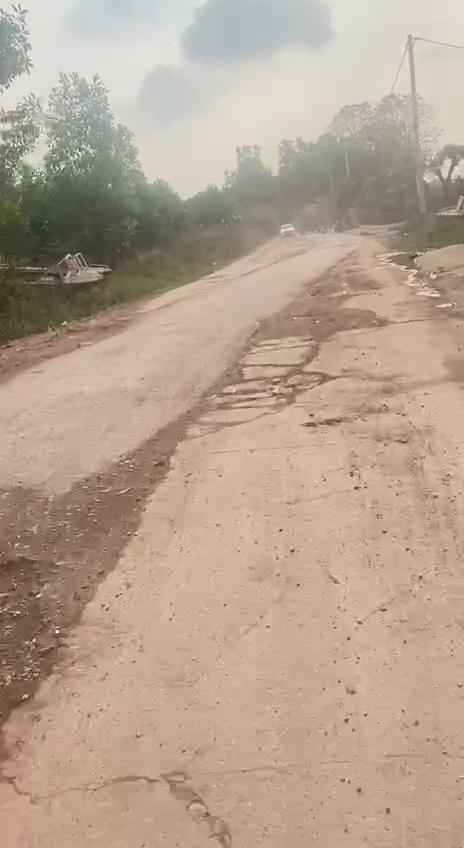pothole: (0, 534, 134, 708), (206, 357, 338, 422)
